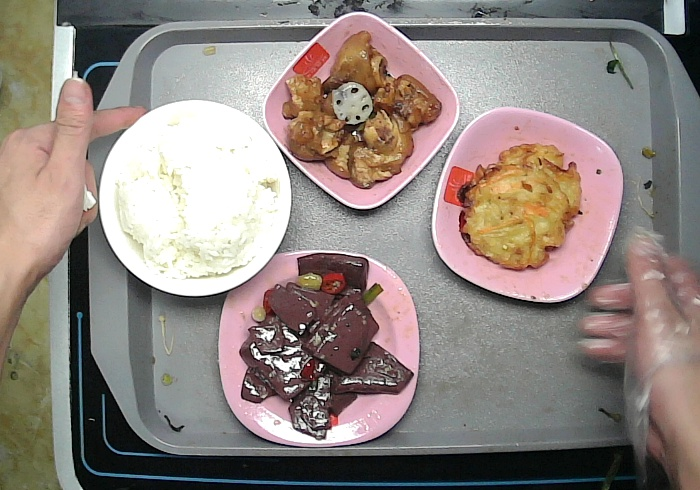SHKJ-Fan_Wan: (97, 98, 293, 299)
SHKJ-Fen_Se_Cai_Die: (430, 105, 628, 304)
SHKJ-Fen_Se_Si_Fang_Cai_Die: (217, 247, 424, 449)
SHKJ-Fen_Se_Xiao_Fang_Die: (260, 12, 461, 211)
